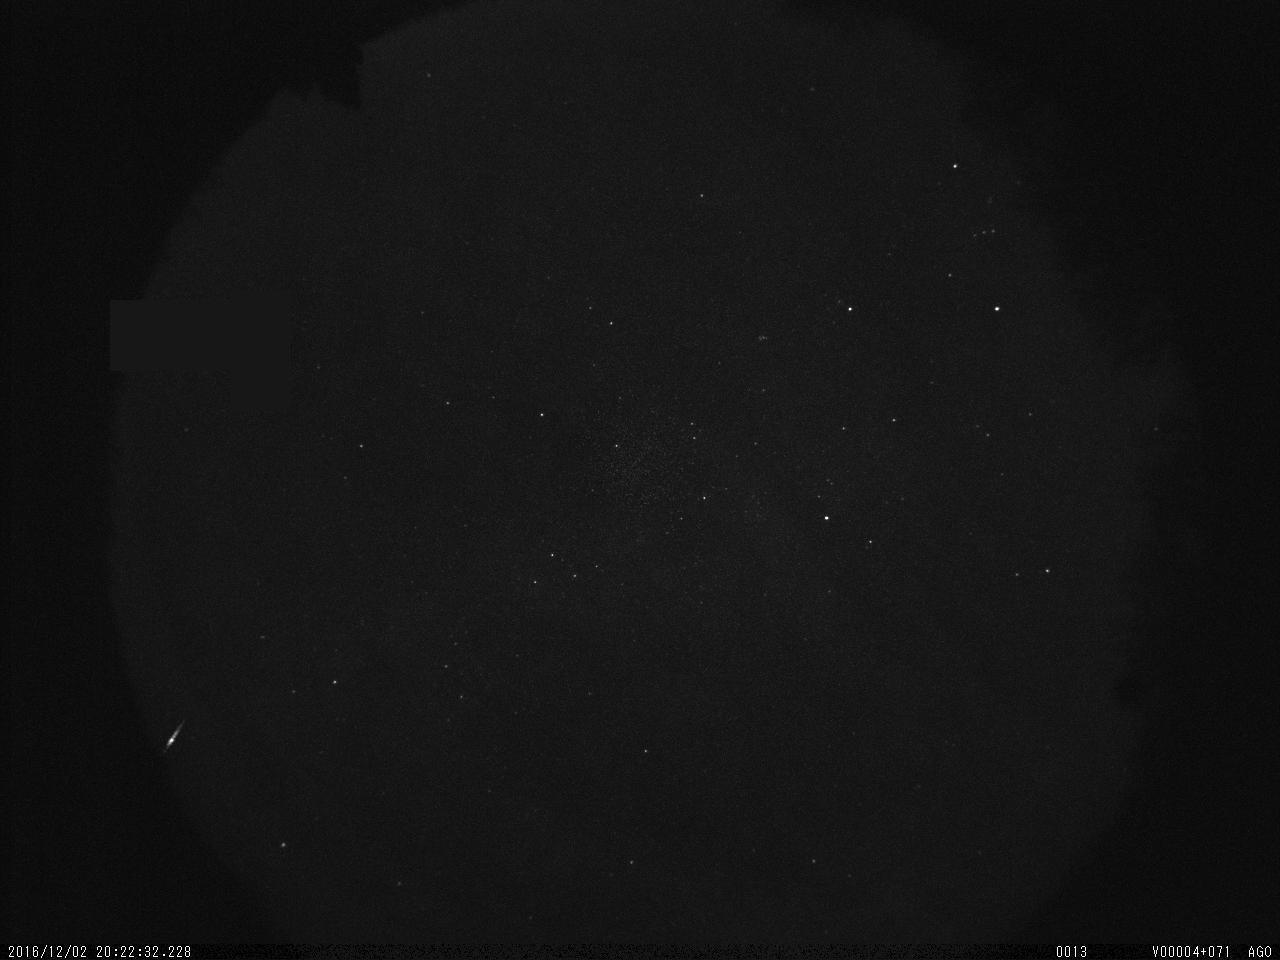meteor: (155, 708, 194, 763)
